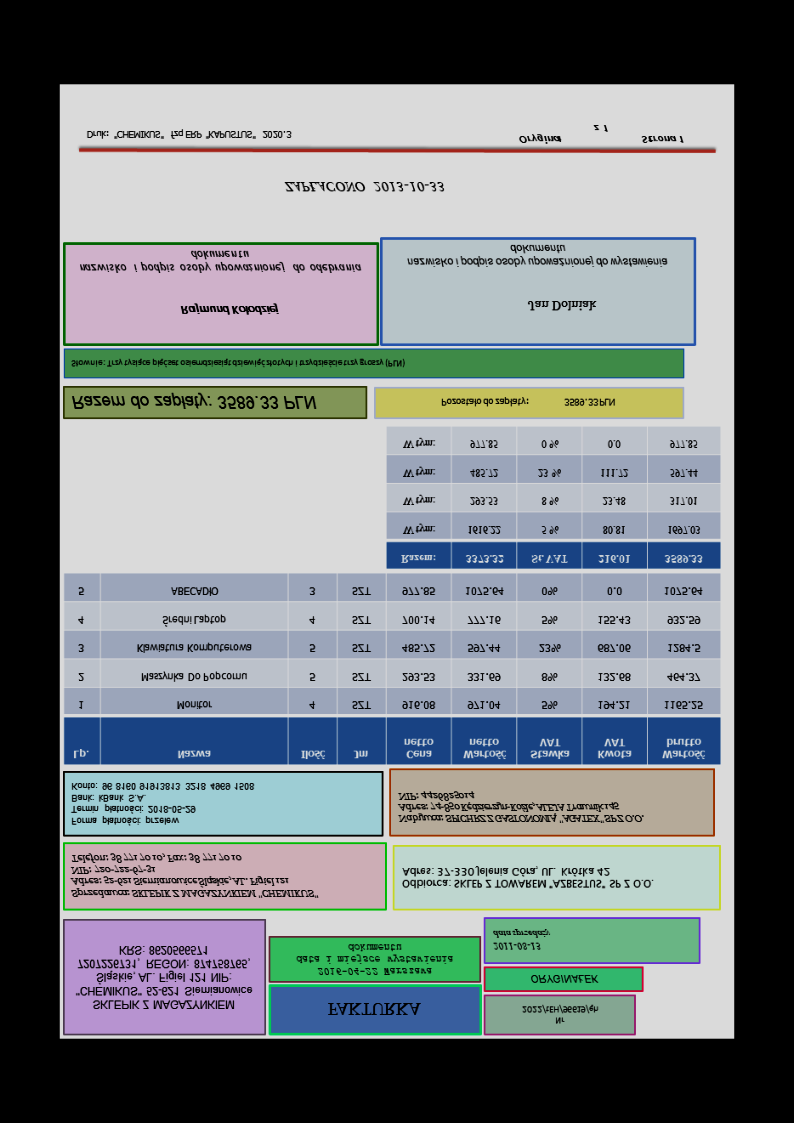Table: (62, 572, 722, 766), (385, 425, 722, 571)
TextBox: (67, 851, 322, 901), (74, 943, 255, 1012), (396, 789, 646, 826), (68, 780, 255, 828), (77, 248, 362, 275), (406, 242, 668, 270), (400, 865, 655, 891), (294, 941, 456, 978), (69, 393, 319, 414), (68, 357, 406, 370), (517, 123, 686, 145), (85, 128, 292, 142), (284, 179, 445, 195), (440, 396, 615, 409), (520, 1002, 600, 1026), (324, 1000, 422, 1018), (490, 927, 551, 953), (178, 302, 280, 317), (525, 297, 599, 314), (528, 972, 600, 987)
